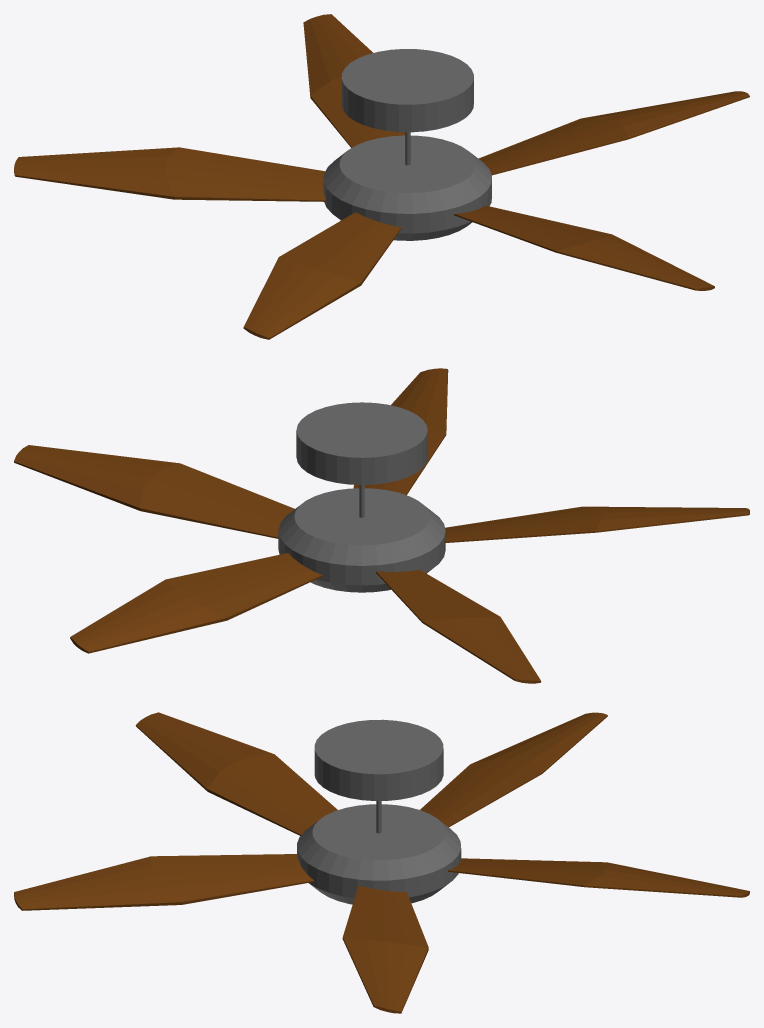
File: fan.fbx
The picture shows the model from 3 angles, top to bottom: view 1: azimuth 30°, elevation 25°; view 2: azimuth 150°, elevation 25°; view 3: azimuth 270°, elevation 25°; orthographic projection. The views are drawn at different scales.
Visible parts, largest first — view 1: Cylinder; view 2: Cylinder; view 3: Cylinder.
Part boxes in pixels (x1,y1,x2,y2): Cylinder: (14,14,749,339); Cylinder: (14,368,749,683); Cylinder: (14,712,749,1013).
Size of the model in its own units: 370 by 76.08 by 385.
